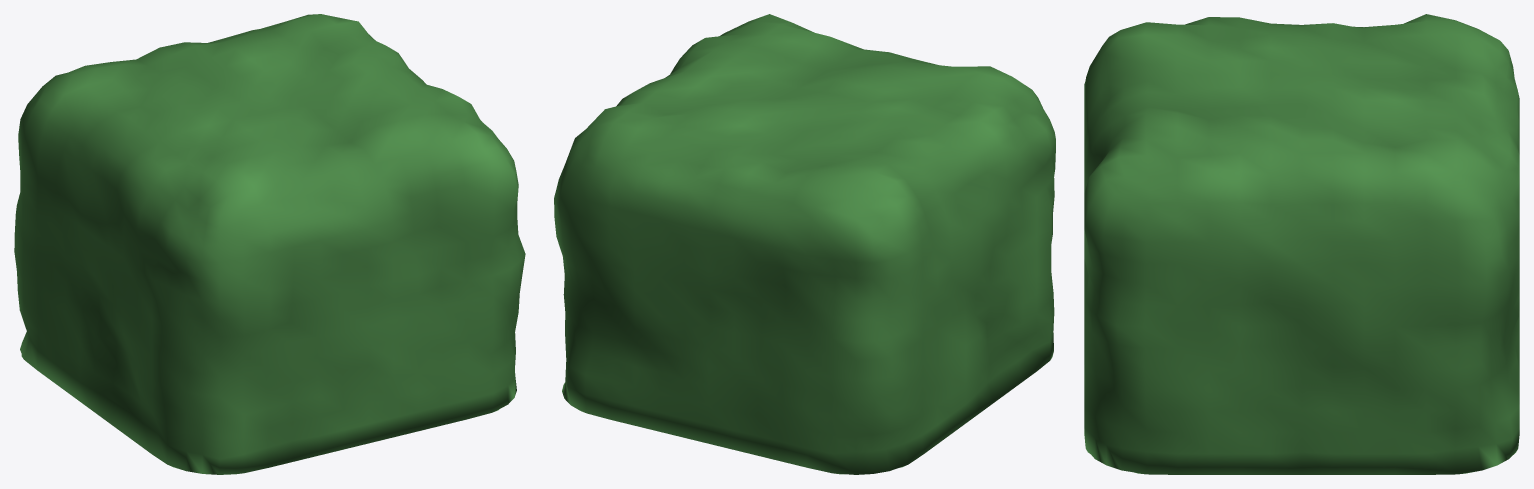
Rendered from hedge_wall.glb.
The picture shows the model from 3 angles, left to right: view 1: azimuth 30°, elevation 25°; view 2: azimuth 150°, elevation 25°; view 3: azimuth 270°, elevation 25°; orthographic projection. The views are drawn at different scales.
Parts seen in each view (by area): view 1: HedgeWall; view 2: HedgeWall; view 3: HedgeWall.
Boxes of the visible parts, x1,y1,x2,y2 form: HedgeWall: [14, 14, 525, 474]; HedgeWall: [554, 14, 1055, 474]; HedgeWall: [1084, 14, 1519, 474].
Size of the model in its own units: 4 by 3 by 4.
